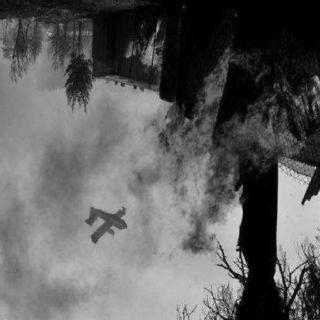Smoke: (20, 273, 64, 307)
